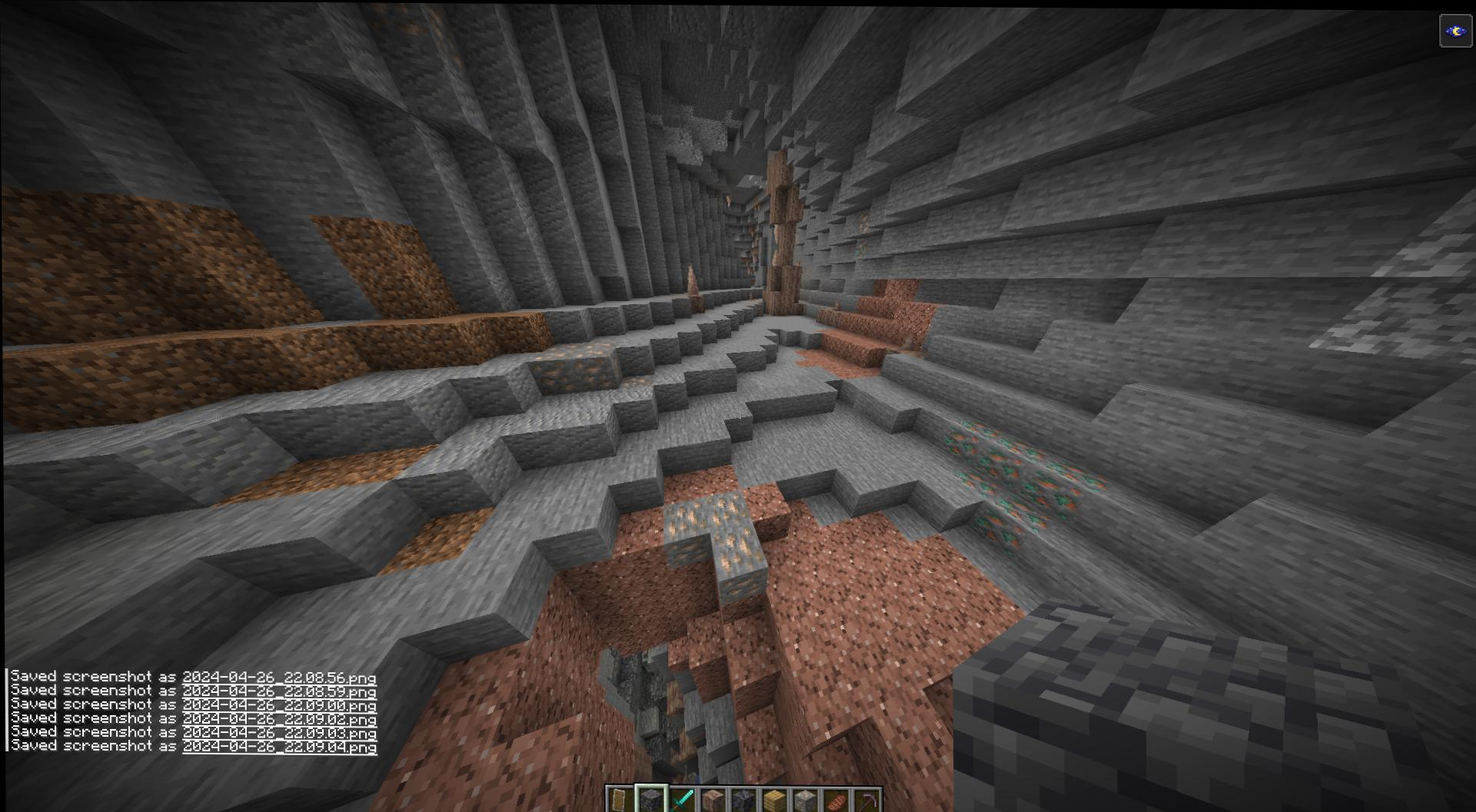iron ore: (705, 522, 767, 595), (538, 339, 613, 385), (663, 495, 708, 557), (706, 494, 747, 528), (618, 370, 656, 389)
